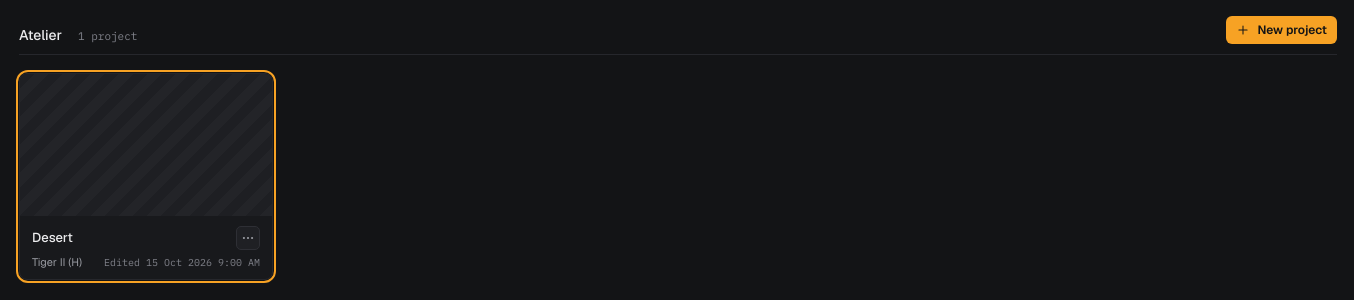
it: Atelier home › Escape cancels a rename without saving, even when a blur follows
Press F2
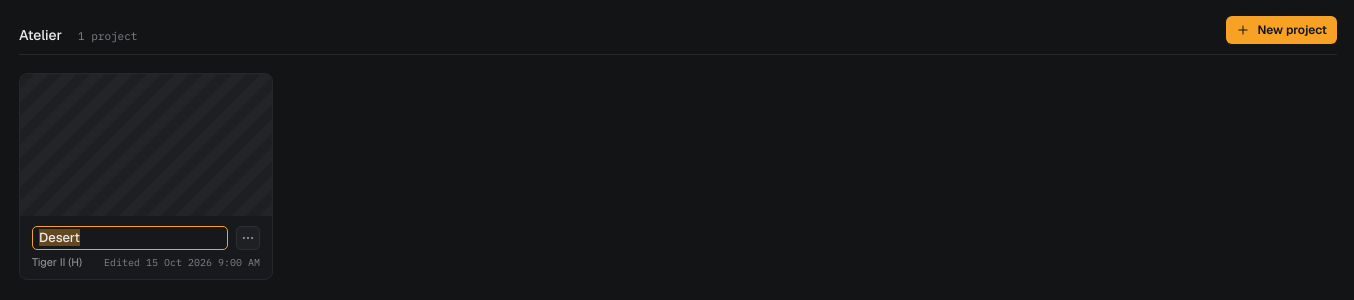
Replace the text in the field named "New name for Desert" with "Sand" at coordinates (130, 238), box top-left (32, 226), bottom-right (228, 250)
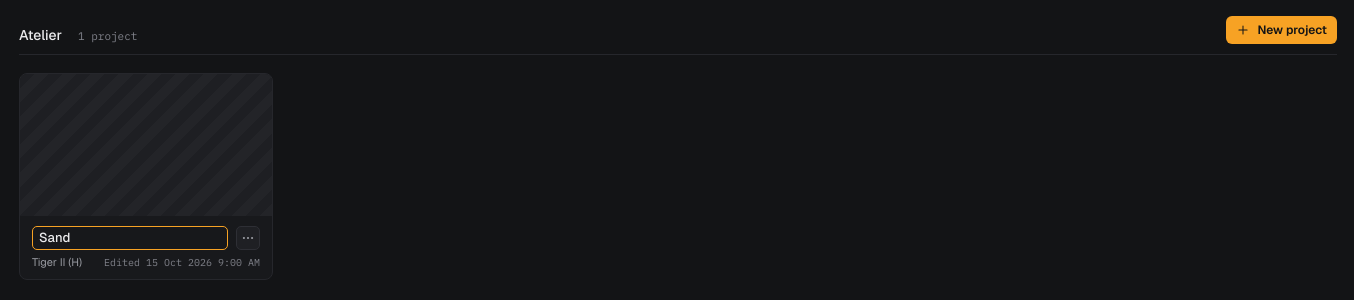
Note: WebView2 blurs the field as it goes away: same batch as the Escape.
Press Escape in the field named "New name for Desert", box top-left (32, 226), bottom-right (228, 250)
Leave the field named "New name for Desert", box top-left (32, 226), bottom-right (228, 250)
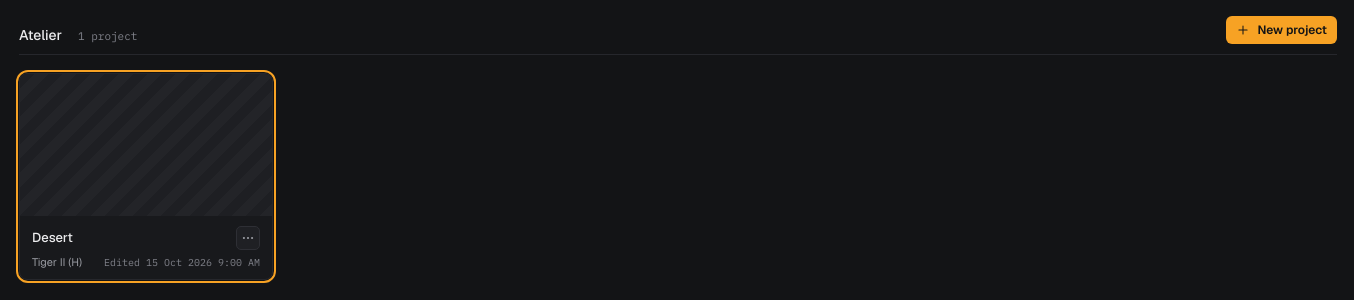
Expected: the button named "Desert" is shown, top-left (20, 74), bottom-right (272, 279)
Expected: the field is gone
